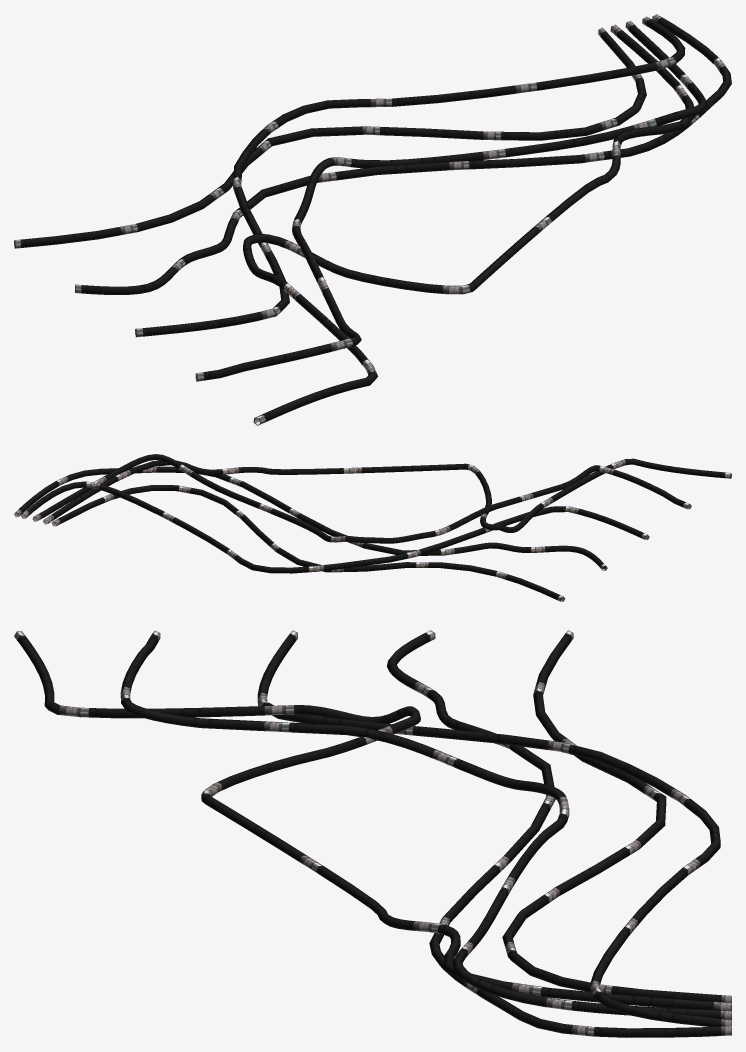
File: SM_FilsAend.fbx
3 views of the same model, one above another, from view 1: azimuth 30°, elevation 25°; view 2: azimuth 150°, elevation 25°; view 3: azimuth 270°, elevation 25° (orthographic). The views are drawn at different scales.
Visible parts, largest first — view 1: SM_FilsAend_LOD0; view 2: SM_FilsAend_LOD0; view 3: SM_FilsAend_LOD0.
Boxes of the visible parts, x1,y1,x2,y2 form: SM_FilsAend_LOD0: [14, 14, 731, 425]; SM_FilsAend_LOD0: [14, 454, 731, 601]; SM_FilsAend_LOD0: [14, 630, 731, 1037].
Size of the model in its own units: 276 by 209 by 8.55.
Materials: 1 (1 with a texture image).
